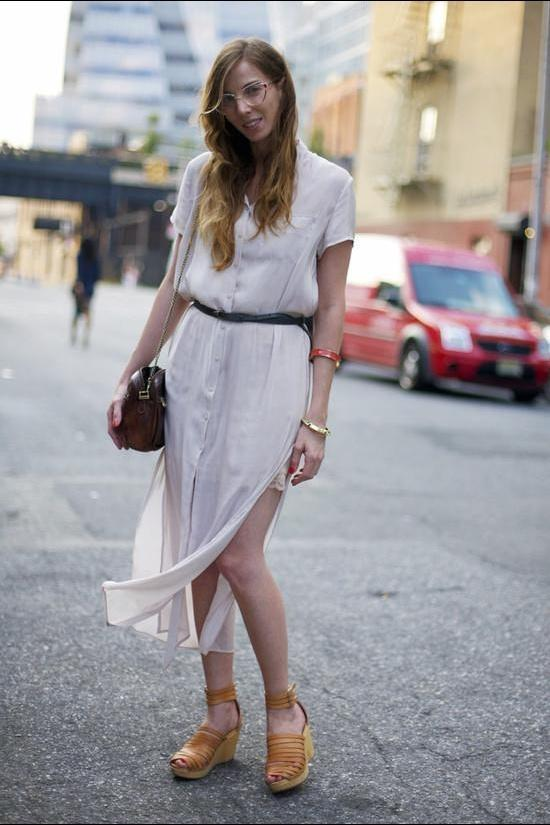dress: (103, 138, 357, 658)
